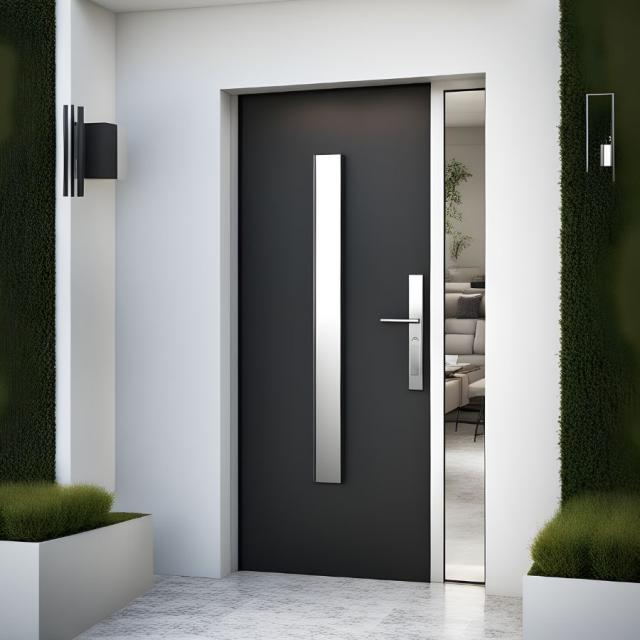door: (234, 80, 435, 583)
